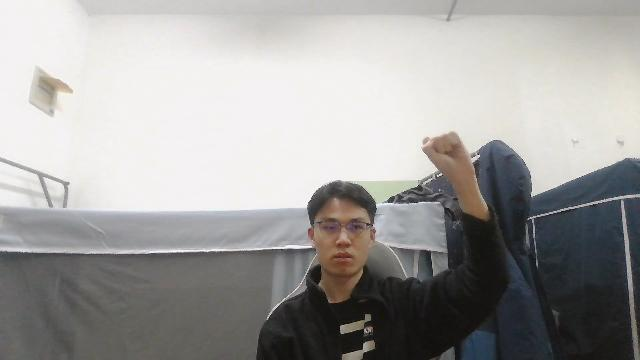ten: (420, 128, 484, 190)
